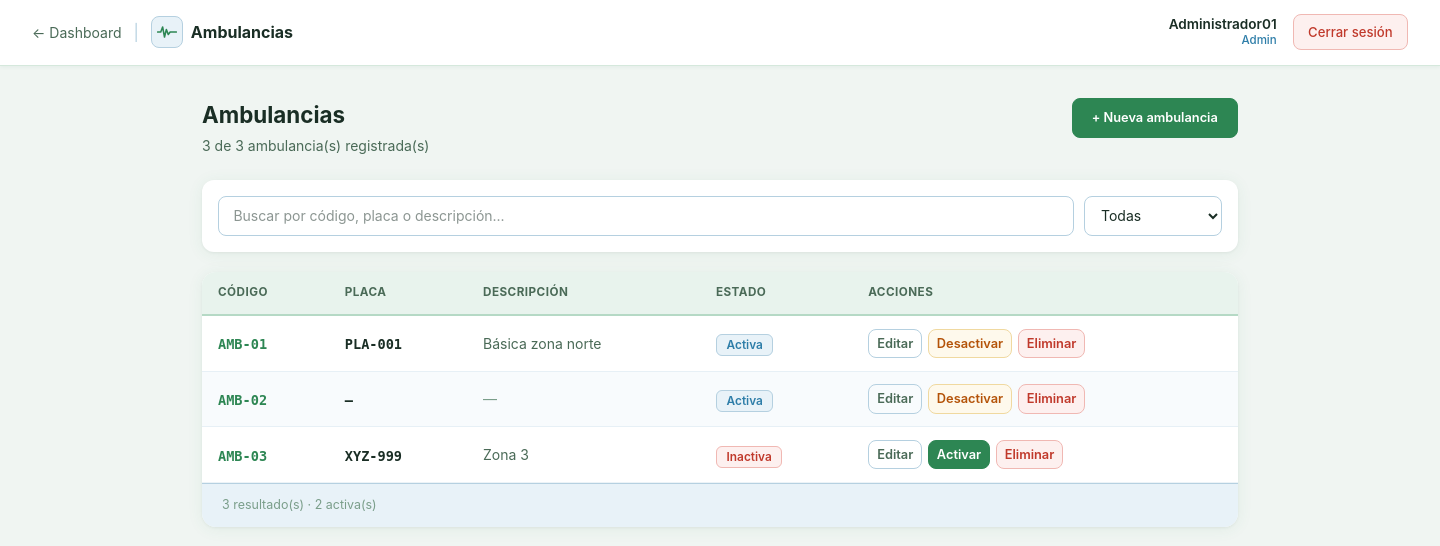
ambulancias/page.js · listado y filtros › filtra por estado=false
Check: the text "AMB-01" is shown, box [218,336,267,352]
Select "Solo inactivas" in the dropdown at (1153, 216), box [1084,196,1222,236]
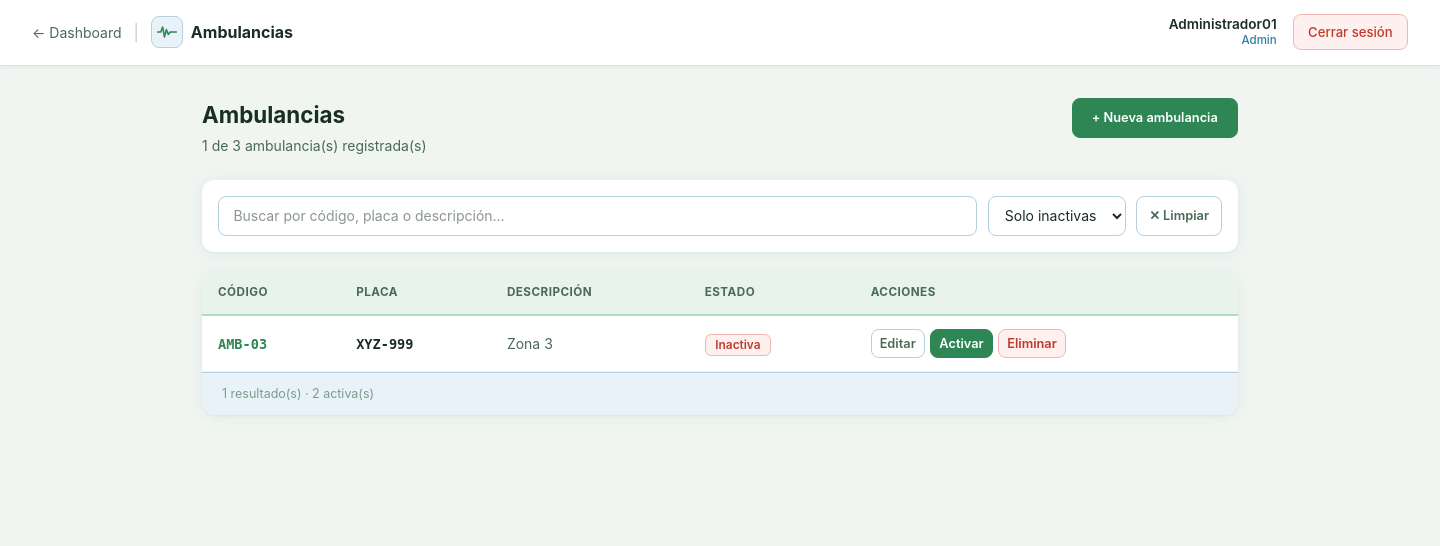
Check: the text "AMB-03" is shown, box [218,336,267,352]
Check: the text "AMB-01" is gone
Check: the text "AMB-02" is gone
